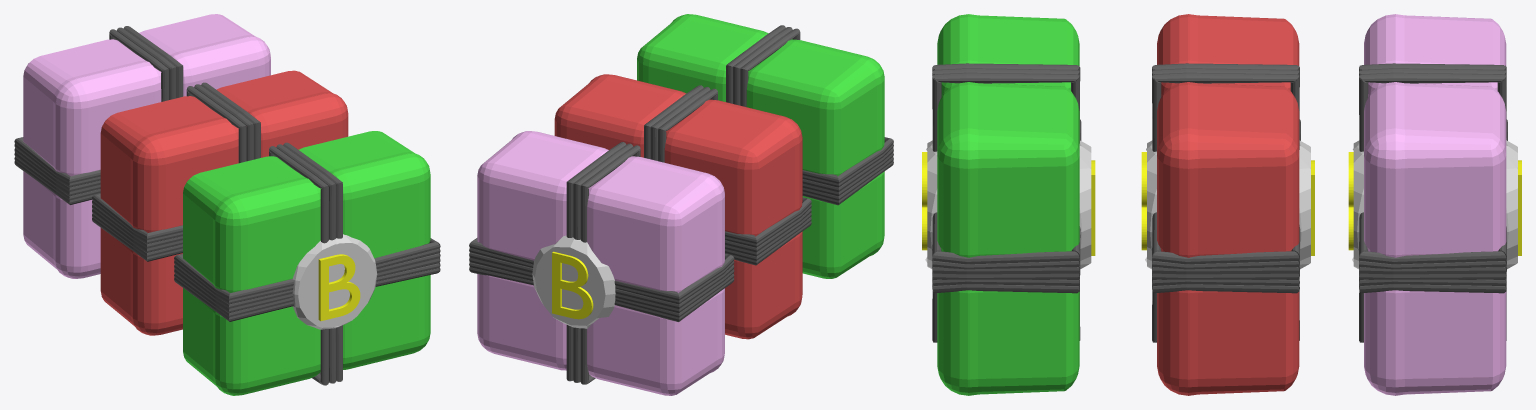
The model's file is bonuses.fbx.
3 renders of one model, left to right at view 1: azimuth 30°, elevation 25°; view 2: azimuth 150°, elevation 25°; view 3: azimuth 270°, elevation 25°, orthographic. The views are drawn at different scales.
Visible parts, largest first — view 1: BonusGreen, BonusGreen.001, BonusGreen.002; view 2: BonusGreen.002, BonusGreen, BonusGreen.001; view 3: BonusGreen, BonusGreen.002, BonusGreen.001.
Boxes of the visible parts, x1,y1,x2,y2 form: BonusGreen: (174, 131, 440, 395); BonusGreen.001: (92, 70, 348, 335); BonusGreen.002: (14, 14, 270, 278); BonusGreen.002: (469, 131, 734, 395); BonusGreen: (637, 14, 893, 278); BonusGreen.001: (554, 74, 811, 339); BonusGreen: (922, 14, 1095, 395); BonusGreen.002: (1348, 14, 1521, 395); BonusGreen.001: (1141, 14, 1314, 395).
Size of the model in its own units: 5.65 by 5.1 by 10.27.
